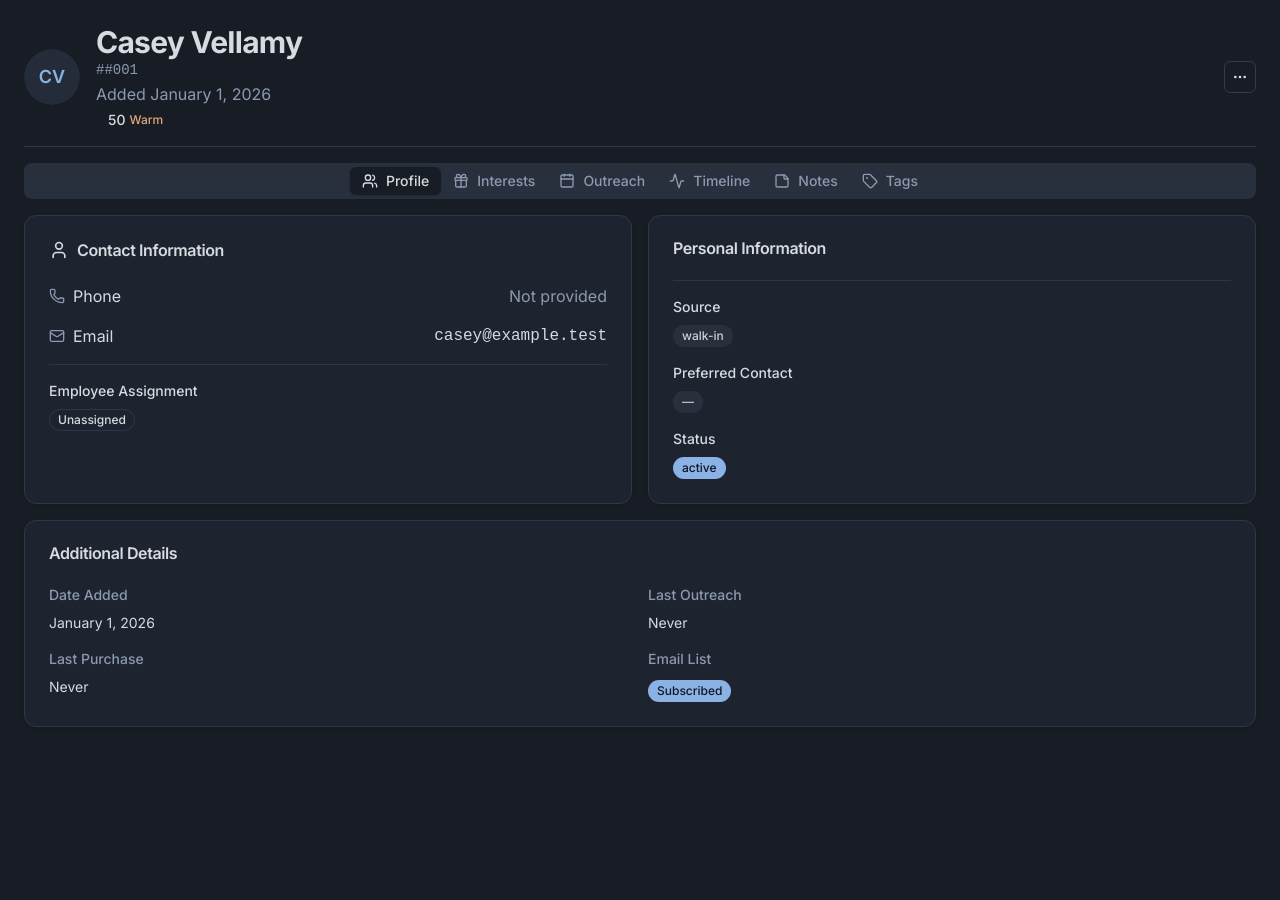
ClientDetailTabs optimistic toggles › email-list toggle › flips "Remove from Email List" → "Add to Email List" instantly pre-await, toasts success
Click the button named "Actions" at (1240, 77), box x1=1224 y1=61 x2=1256 y2=93
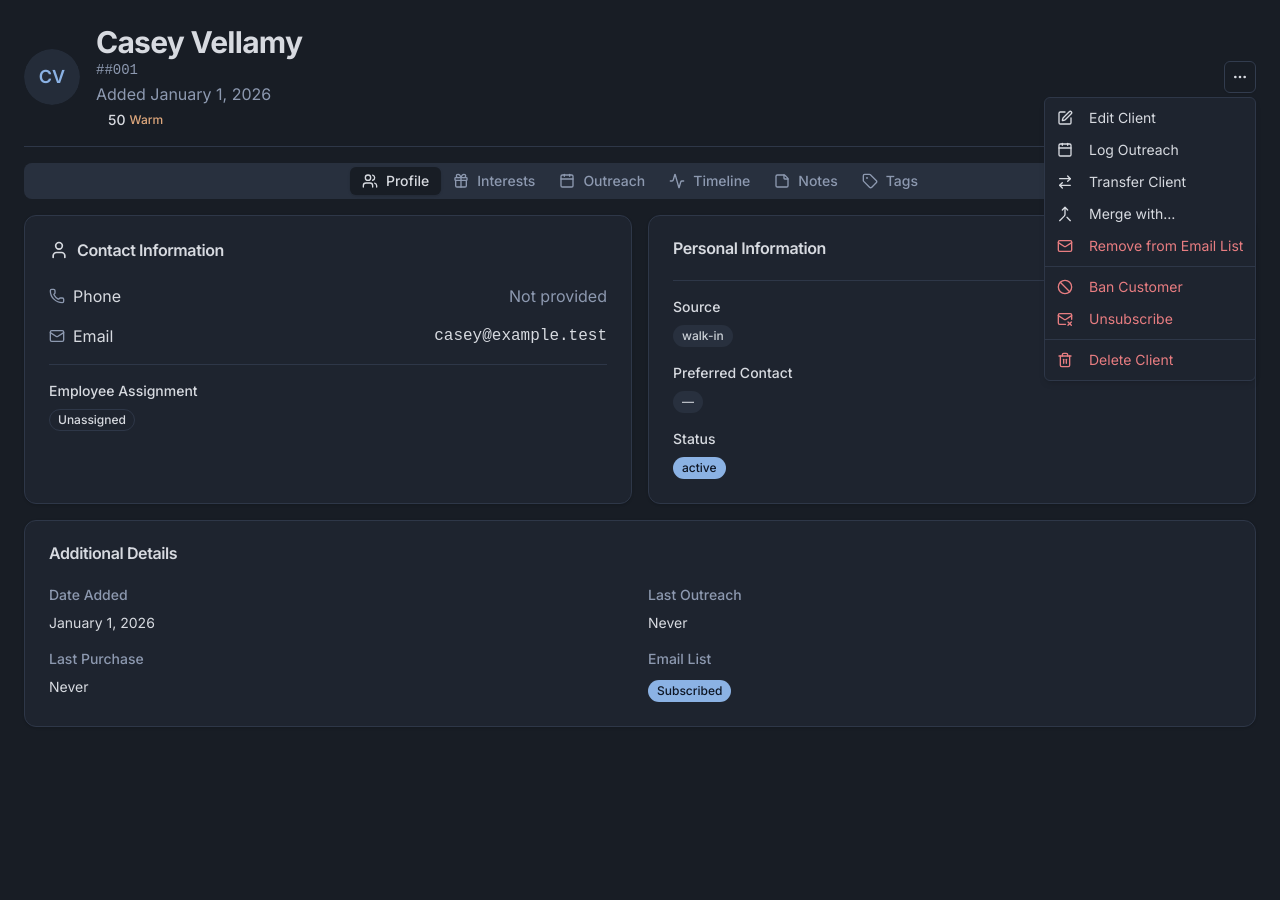
Click the menu item "Remove from Email List" at (1150, 246), box x1=1057 y1=237 x2=1243 y2=254
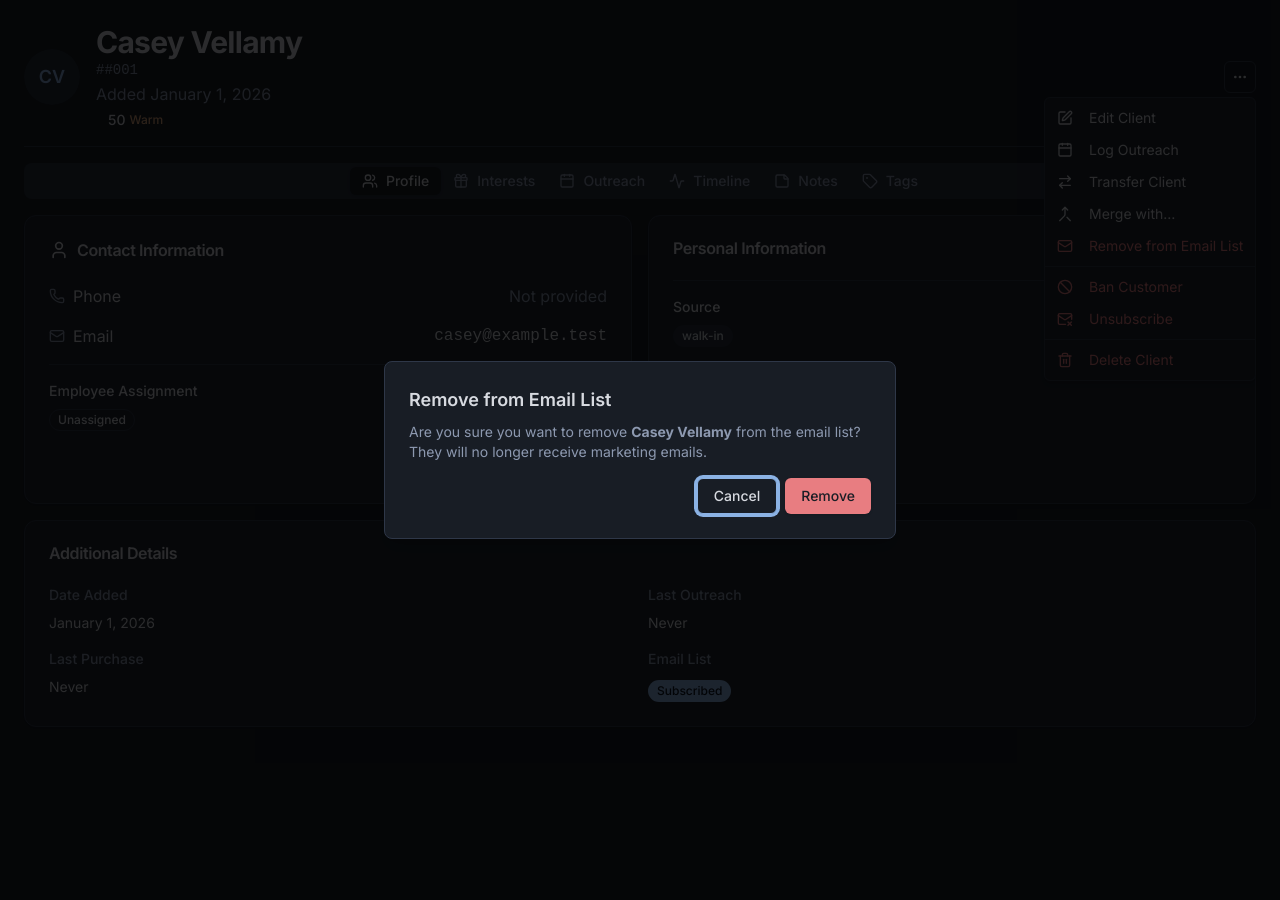
Click the button "Remove" at (828, 496), box x1=785 y1=478 x2=871 y2=514
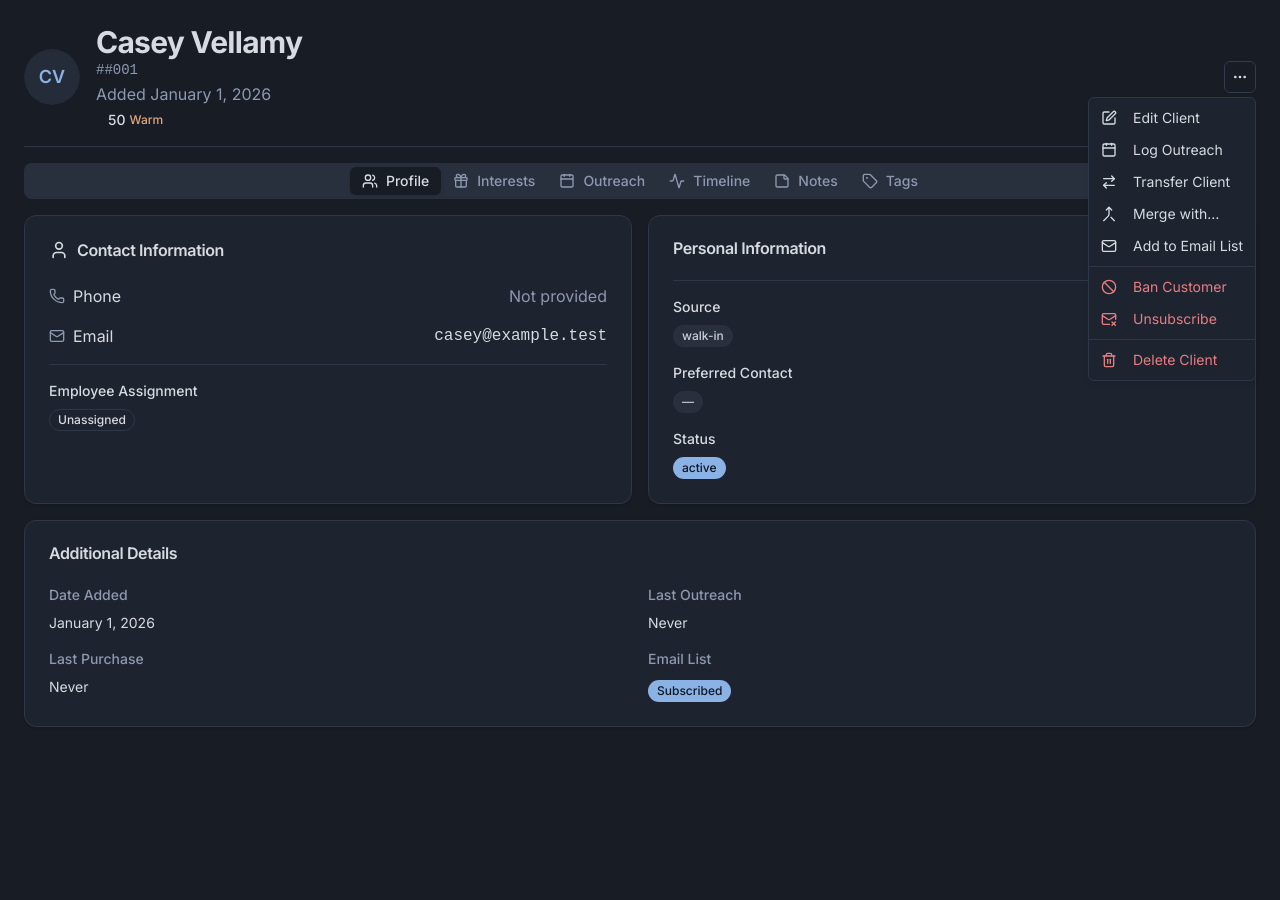
Now the menu item "Remove from Email List" is gone
Now the menu item "Add to Email List" is shown, box x1=1101 y1=237 x2=1243 y2=254
